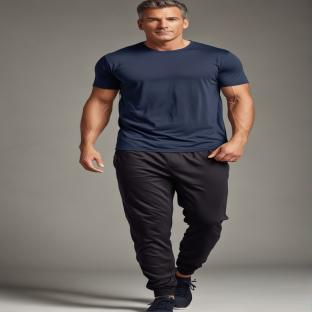Human: (79, 0, 254, 312)
